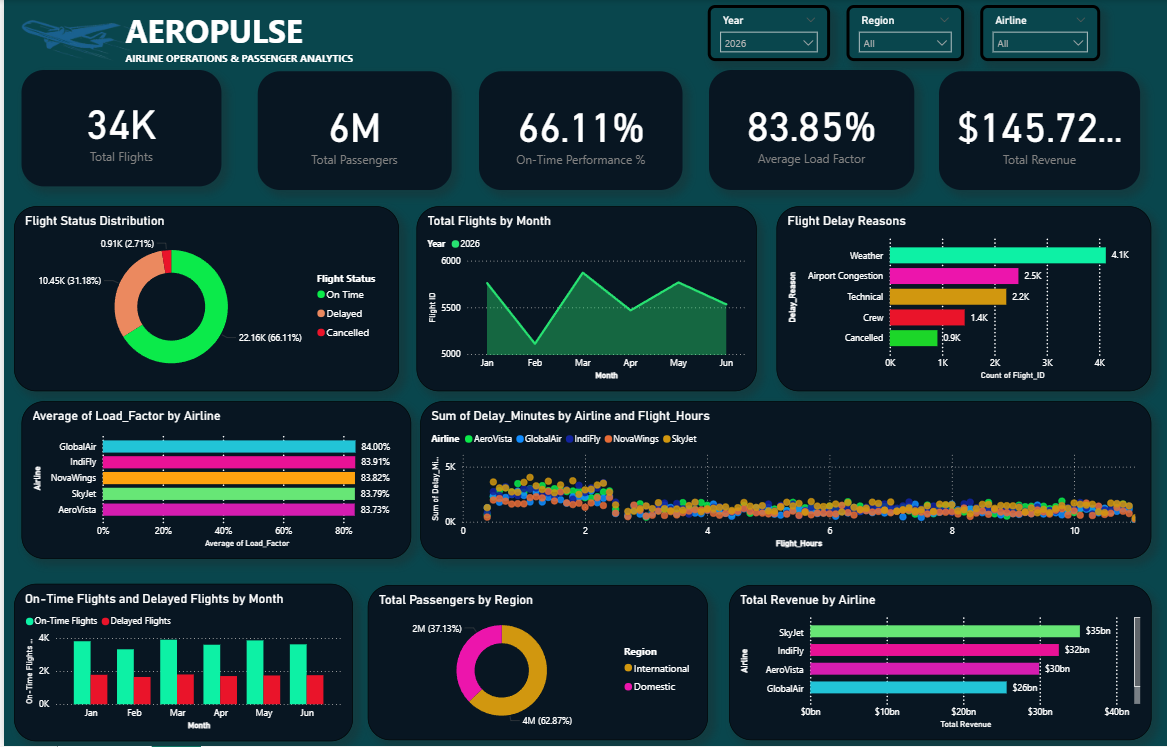

What the dashboard file says about the page in this screenshot:
{"tool":"powerbi","page":{"name":"Page 1","canvas":[1560,1000],"ordinal":0},"visuals":[{"type":"textbox","box":[82.1,0,447.4,98.9],"z":0},{"type":"slicer","fields":{"Values":["Calender.Year"]},"box":[943.4,10.1,164.2,75.4],"z":1000},{"type":"slicer","fields":{"Values":["Flights.Region"]},"box":[1129.4,6.7,157.5,75.4],"z":2000},{"type":"slicer","fields":{"Values":["Flights.Airline"]},"box":[1308.7,6.7,160.9,75.4],"z":3000},{"type":"card","fields":{"Values":["Calender.Total Flights"]},"box":[23.5,93.8,268.1,155.8],"z":4000},{"type":"card","fields":{"Values":["Calender.Total Passengers"]},"box":[340.1,95.5,259.7,159.2],"z":5000},{"type":"card","fields":{"Values":["Calender.Average Load Factor"]},"box":[945,93.8,274.8,160.9],"z":6000},{"type":"card","fields":{"Values":["Calender.Total Revenue"]},"box":[1253.4,95.5,269.8,159.2],"z":7000},{"type":"card","fields":{"Values":["Flights.On-Time Performance %"]},"box":[636.7,95.5,273.1,159.2],"z":8000},{"type":"donutChart","title":"Flight Status Distribution","fields":{"Category":["Flights.Flight_Status"],"Y":["CountNonNull(Flights.Flight_ID)"]},"box":[13.4,276.5,516.1,248],"z":9000},{"type":"areaChart","title":"Total Flights by Month","fields":{"Category":["Calender.Month"],"Y":["Calender.Total Flights"],"Series":["Calender.Year"]},"box":[553,276.5,455.8,248],"z":10000},{"type":"clusteredBarChart","title":"Flight Delay Reasons","fields":{"Category":["Flights.Delay_Reason"],"Y":["CountNonNull(Flights.Flight_ID)"]},"box":[1035.5,276.5,502.7,248],"z":11000},{"type":"clusteredBarChart","fields":{"Category":["Flights.Airline"],"Y":["Avg(Flights.Load_Factor)"]},"box":[23.5,537.9,522.8,211.1],"z":12000},{"type":"scatterChart","fields":{"Y":["Sum(Flights.Delay_Minutes)"],"X":["Flights.Flight_Hours"],"Series":["Flights.Airline"]},"box":[558,537.9,980.2,211.1],"z":13000},{"type":"lineClusteredColumnComboChart","fields":{"Y":["Calender.On-Time Flights","Calender.Delayed Flights"],"Category":["Calender.Month"]},"box":[13.4,782.5,454.1,211.1],"z":14000},{"type":"donutChart","fields":{"Y":["Calender.Total Passengers"],"Category":["Flights.Region"]},"box":[487.6,784.2,455.8,207.8],"z":15000},{"type":"clusteredBarChart","fields":{"Y":["Calender.Total Revenue"],"Category":["Flights.Airline"]},"box":[972,784,566,208],"z":16000},{"type":"image","box":[390,0,196.7,103.3],"z":16001}]}

Visuals, with their boxes in screenshot pixels (x1, y1, x2, y2), scaled from the page's 1560x1000 canvas onto the 1167x747 screenshot:
textbox: [x1=61, y1=0, x2=396, y2=74]
slicer - Calender.Year: [x1=706, y1=8, x2=829, y2=64]
slicer - Flights.Region: [x1=845, y1=5, x2=963, y2=61]
slicer - Flights.Airline: [x1=979, y1=5, x2=1099, y2=61]
card - Calender.Total Flights: [x1=18, y1=70, x2=218, y2=186]
card - Calender.Total Passengers: [x1=254, y1=71, x2=449, y2=190]
card - Calender.Average Load Factor: [x1=707, y1=70, x2=913, y2=190]
card - Calender.Total Revenue: [x1=938, y1=71, x2=1139, y2=190]
card - Flights.On-Time Performance %: [x1=476, y1=71, x2=681, y2=190]
"Flight Status Distribution" donutChart: [x1=10, y1=207, x2=396, y2=392]
"Total Flights by Month" areaChart: [x1=414, y1=207, x2=755, y2=392]
"Flight Delay Reasons" clusteredBarChart: [x1=775, y1=207, x2=1151, y2=392]
clusteredBarChart - Flights.Airline x Avg(Flights.Load_Factor): [x1=18, y1=402, x2=409, y2=560]
scatterChart - Sum(Flights.Delay_Minutes) x Flights.Flight_Hours: [x1=417, y1=402, x2=1151, y2=560]
lineClusteredColumnComboChart - Calender.On-Time Flights x Calender.Delayed Flights: [x1=10, y1=585, x2=350, y2=742]
donutChart - Calender.Total Passengers x Flights.Region: [x1=365, y1=586, x2=706, y2=741]
clusteredBarChart - Calender.Total Revenue x Flights.Airline: [x1=727, y1=586, x2=1151, y2=741]
image: [x1=292, y1=0, x2=439, y2=77]
